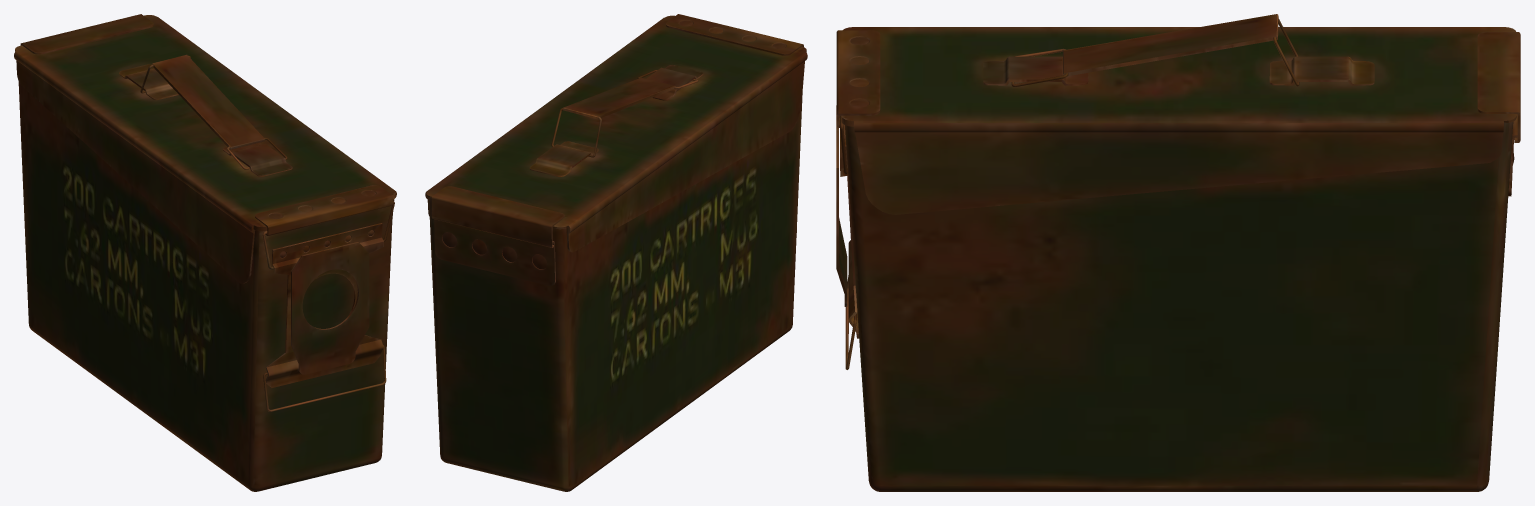
The model's file is ammo_box.glb.
3 views of the same model, side by side, from view 1: azimuth 30°, elevation 25°; view 2: azimuth 150°, elevation 25°; view 3: azimuth 270°, elevation 25° (orthographic). The views are drawn at different scales.
Visible parts, largest first — view 1: ammo_box, ammo_box_handle, ammo_box_latch; view 2: ammo_box, ammo_box_handle; view 3: ammo_box, ammo_box_handle.
Boxes of the visible parts, x1,y1,x2,y2 form: ammo_box: (14, 14, 396, 491); ammo_box_handle: (152, 54, 265, 149); ammo_box_latch: (263, 345, 386, 411); ammo_box: (425, 14, 807, 491); ammo_box_handle: (563, 77, 675, 119); ammo_box: (836, 27, 1520, 491); ammo_box_handle: (1063, 14, 1278, 76).
Size of the model in its own units: 0.0865 by 0.1775 by 0.2579.
1 material, 1 textured.
